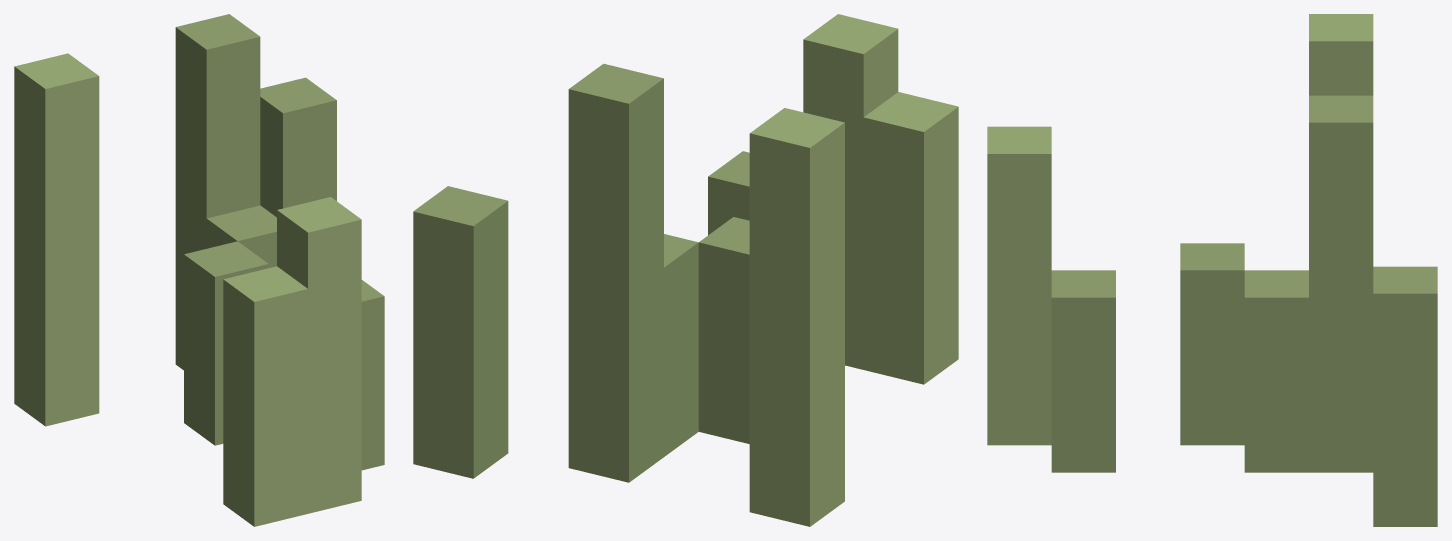
Rendered from junco_02.glb.
3 views of the same model, side by side, from view 1: azimuth 30°, elevation 25°; view 2: azimuth 150°, elevation 25°; view 3: azimuth 270°, elevation 25° (orthographic). The views are drawn at different scales.
Parts seen in each view (by area): view 1: junco_02; view 2: junco_02; view 3: junco_02.
Boxes of the visible parts, box(x1,y1,x2,y2) form: junco_02: box(14, 14, 384, 526); junco_02: box(413, 14, 958, 526); junco_02: box(987, 14, 1437, 526).
Size of the model in its own units: 0.6 by 0.6 by 0.7.
